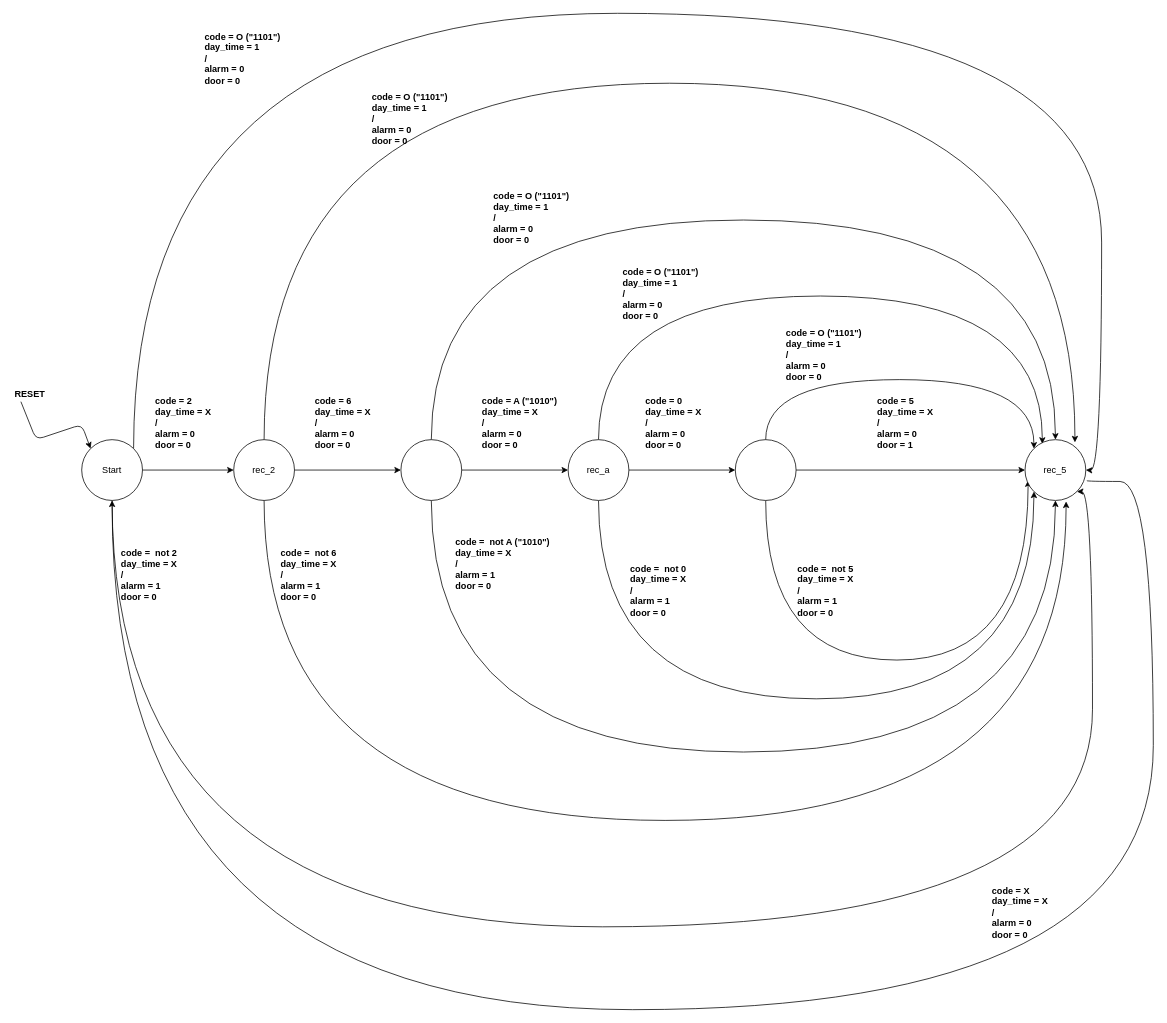
Some shapes in this 1167 by 1023 pixel diagram are drawn without their labels. Each missing label, with the centre of its shape:
rec_0: the point at 765,469
rec_6: the point at 431,469
